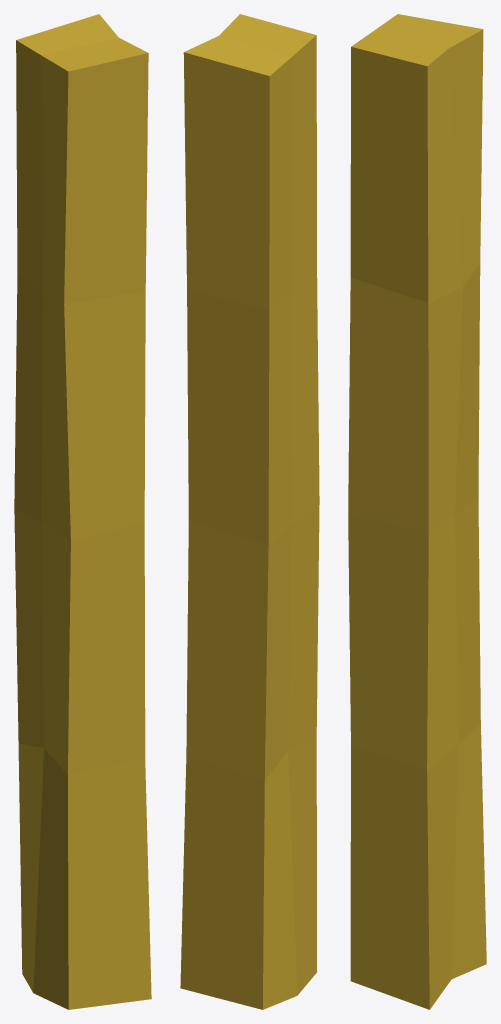
File: fencepost.fbx
3 renders of one model, left to right at view 1: azimuth 30°, elevation 25°; view 2: azimuth 150°, elevation 25°; view 3: azimuth 330°, elevation 25°, orthographic.
Visible parts, largest first — view 1: fencepost; view 2: fencepost; view 3: fencepost.
Boxes of the visible parts, box(x1,y1,x2,y2) form: fencepost: box(14, 14, 151, 1009); fencepost: box(180, 14, 319, 1009); fencepost: box(348, 14, 486, 1009).
Size of the model in its own units: 20.84 by 202 by 21.69.
